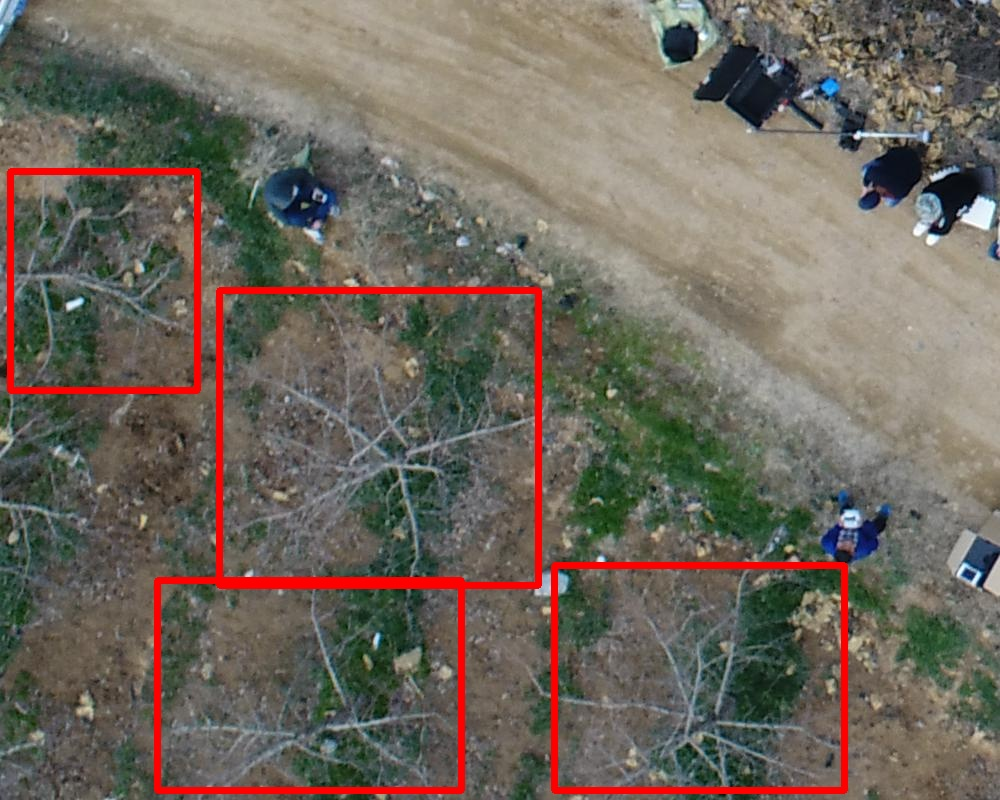apple: (219, 290, 538, 585), (554, 565, 844, 790), (157, 580, 461, 790), (10, 171, 197, 390)
